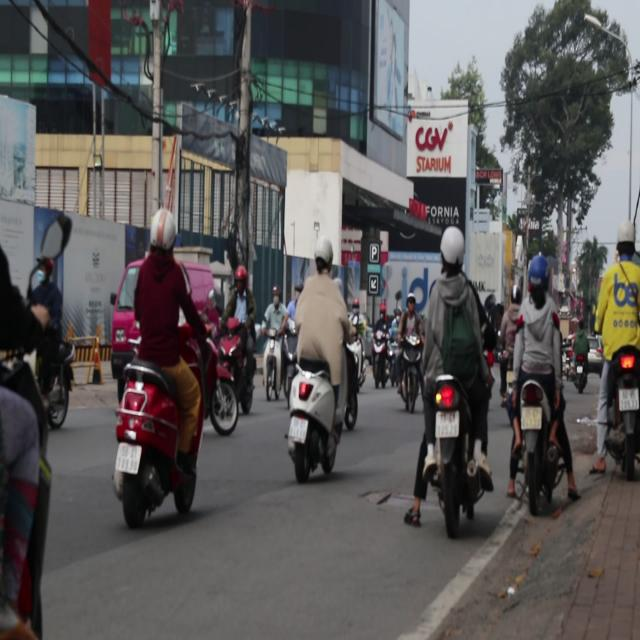car: (588, 336, 602, 360)
motorbike: (112, 349, 205, 526), (408, 374, 488, 538), (284, 343, 347, 483), (513, 374, 569, 520), (208, 301, 257, 433), (602, 338, 640, 488), (33, 323, 77, 431)
truck: (112, 259, 219, 333)
